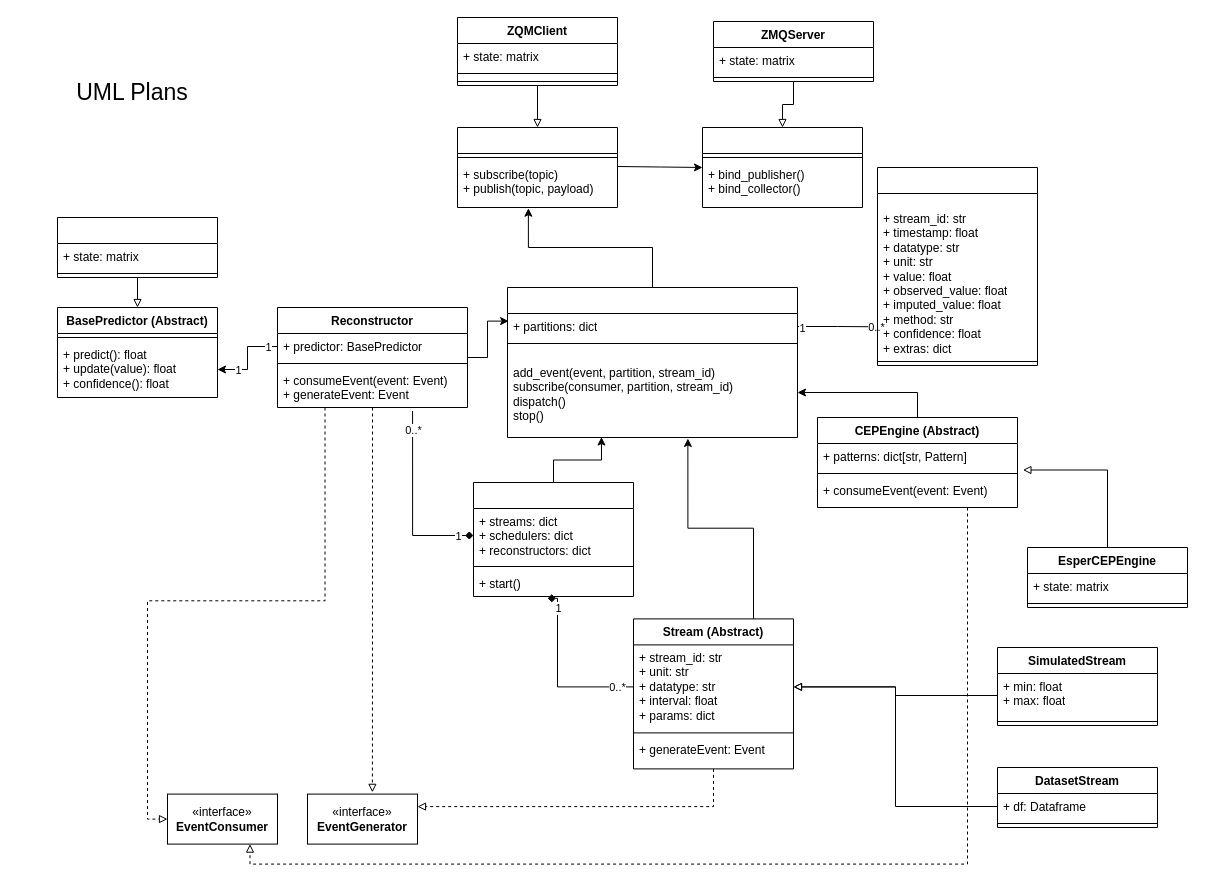
This 1205x890 diagram has some shape labels left out. The box of each missing label's shape, as (x1, y1, x2, y2) in pixels:
Client (Abstract): (456, 126, 618, 208)
Coordinator: (472, 482, 634, 596)
Event: (876, 166, 1038, 366)
EventStream: (506, 286, 798, 438)
KalmanFilter: (56, 216, 218, 278)
Server (Abstract): (702, 126, 862, 208)
